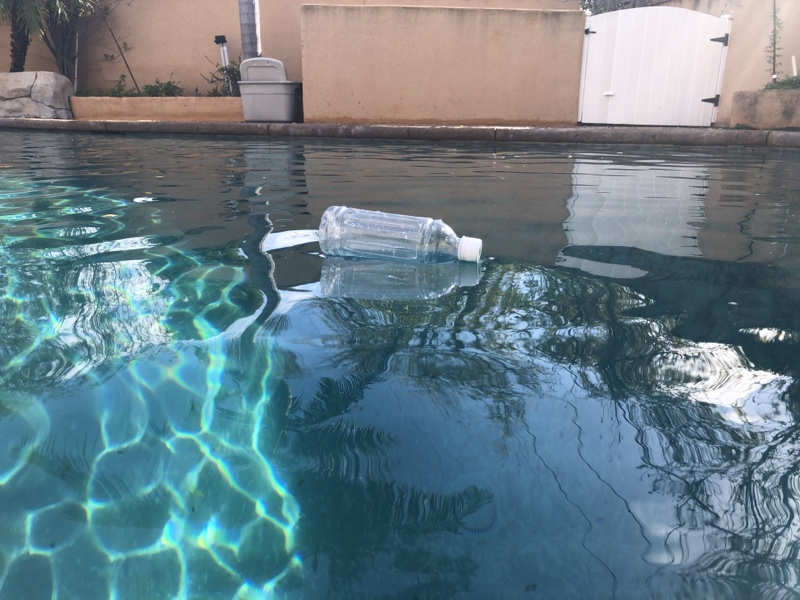Plastic Bottle: (315, 202, 486, 267)
